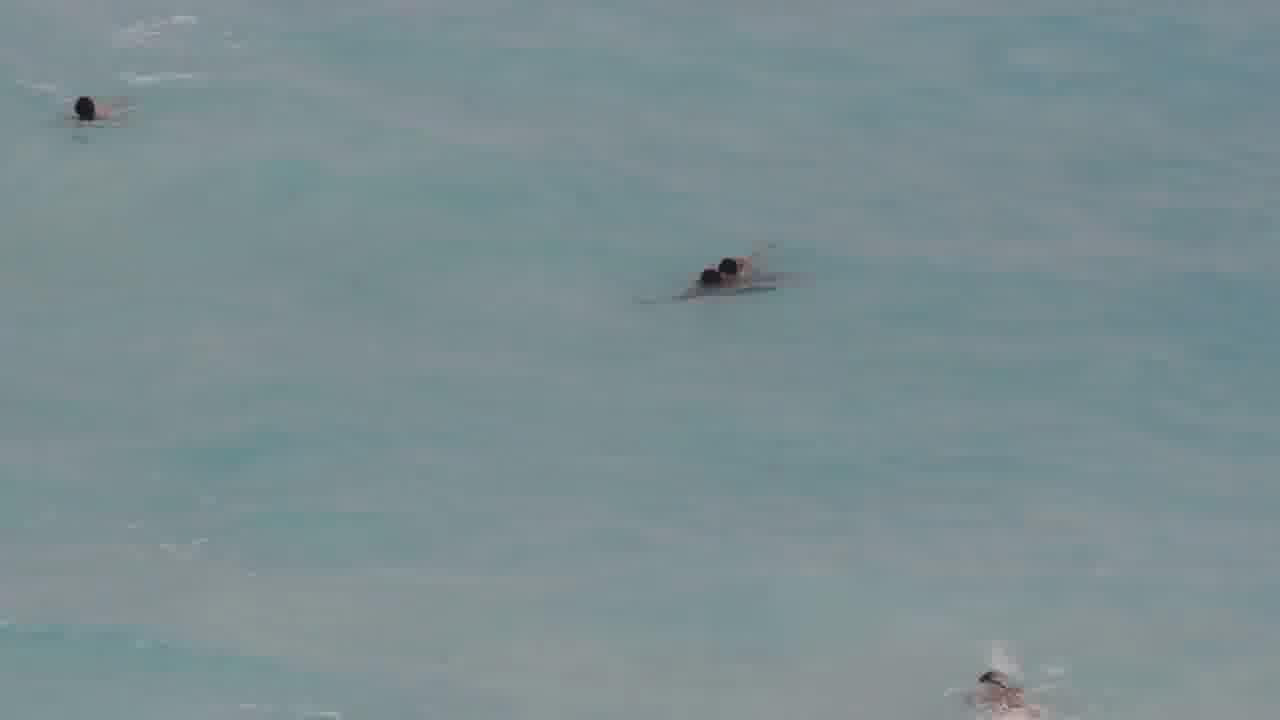swimmer: (959, 657, 1043, 719), (60, 87, 125, 125), (717, 247, 771, 287), (680, 266, 729, 295)
